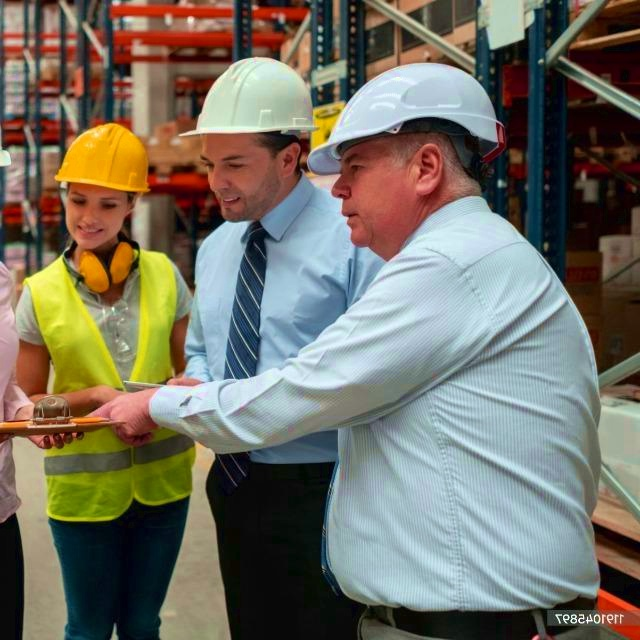Con_Casco: (309, 67, 505, 261), (180, 52, 316, 218), (53, 121, 150, 249)
Con_Chaleco: (29, 247, 180, 519)
Sin_Chaleco: (324, 227, 598, 606)
